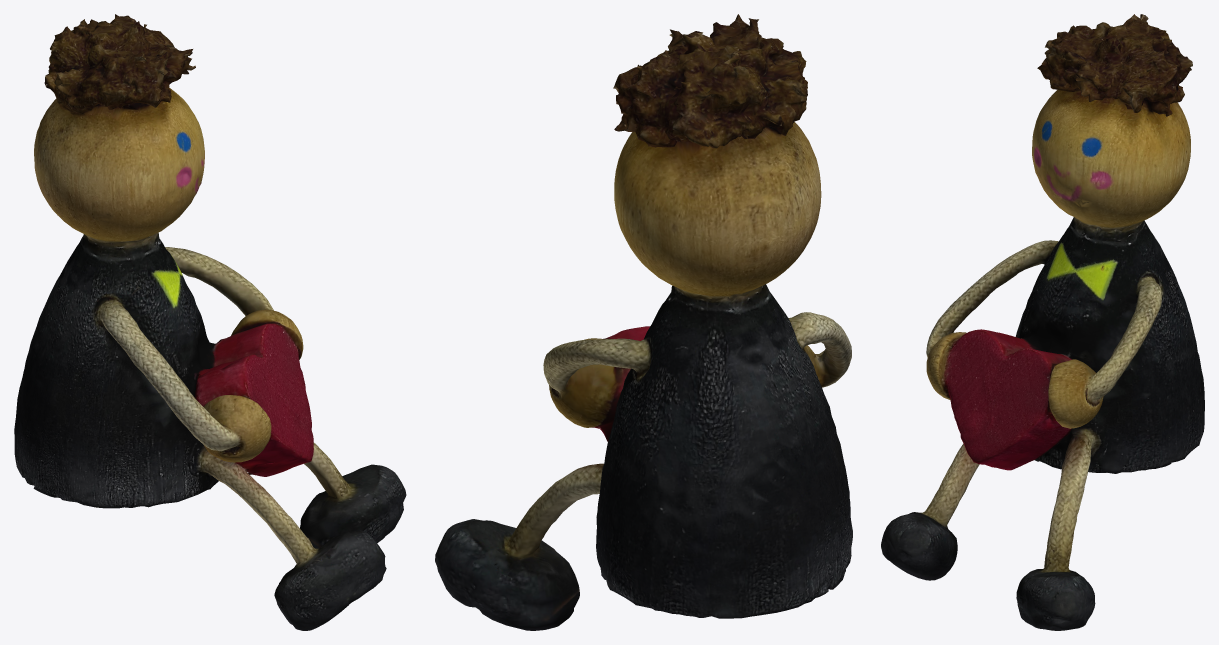
Rendered from child_2.glb.
3 views of the same model, side by side, from view 1: azimuth 30°, elevation 25°; view 2: azimuth 150°, elevation 25°; view 3: azimuth 270°, elevation 25° (orthographic). The views are drawn at different scales.
Parts seen in each view (by area): view 1: 小人_219_完成_1_10000; view 2: 小人_219_完成_1_10000; view 3: 小人_219_完成_1_10000.
Boxes of the visible parts, x1,y1,x2,y2 form: 小人_219_完成_1_10000: [14, 14, 406, 630]; 小人_219_完成_1_10000: [435, 14, 852, 630]; 小人_219_完成_1_10000: [881, 14, 1204, 630].
Size of the model in its own units: 0.4274 by 0.6493 by 0.3691.
1 material, 1 textured.
